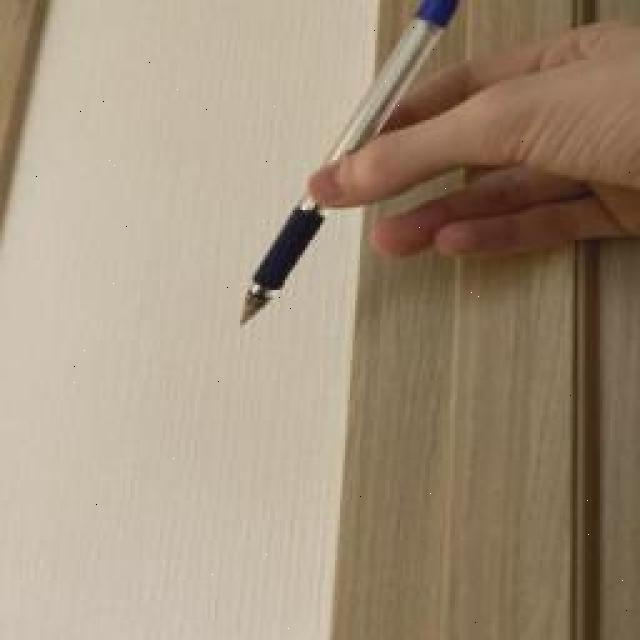pen: (235, 0, 460, 328)
